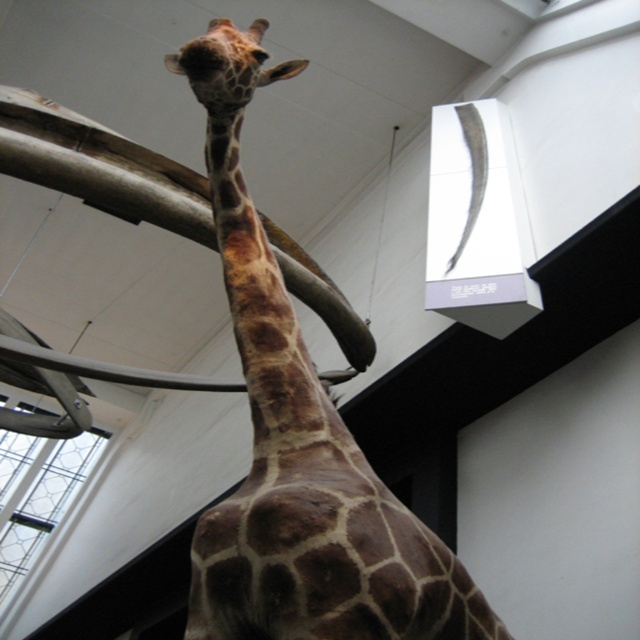Giraffe: (159, 16, 518, 639)
